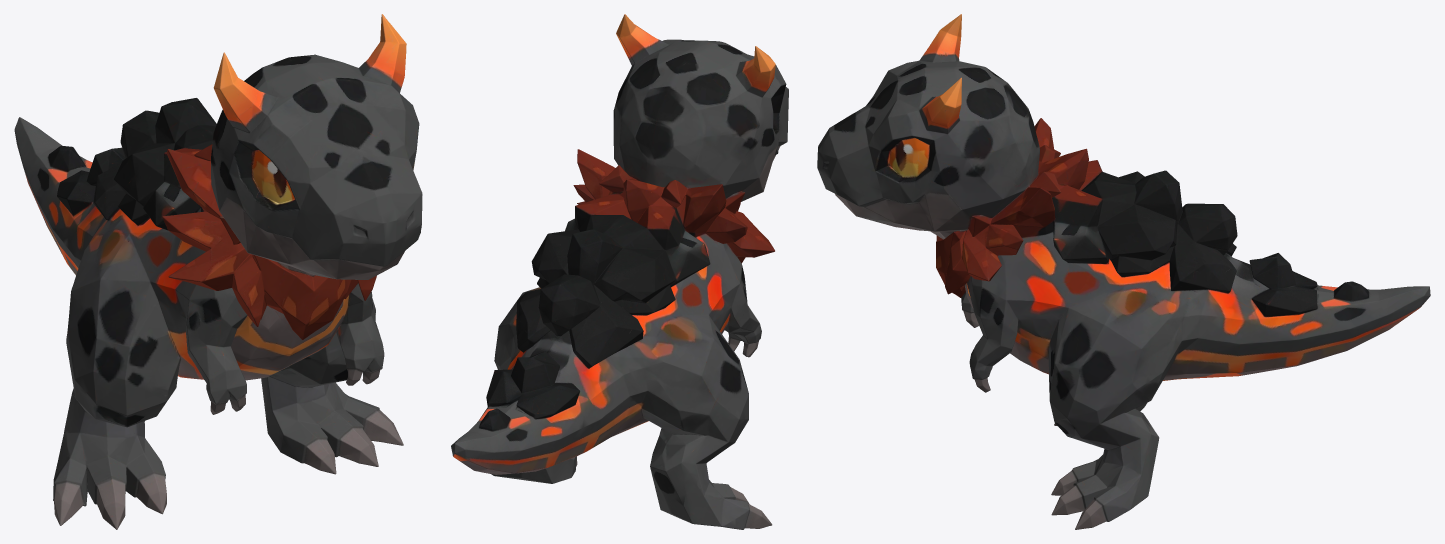
Rendered from meshy_1793054409870.glb.
3 renders of one model, left to right at view 1: azimuth 30°, elevation 25°; view 2: azimuth 150°, elevation 25°; view 3: azimuth 270°, elevation 25°, orthographic. The views are drawn at different scales.
Bounding box in the file's own units: 1.01 × 1.43 × 1.9.
Materials: 1 (1 with a texture image).
